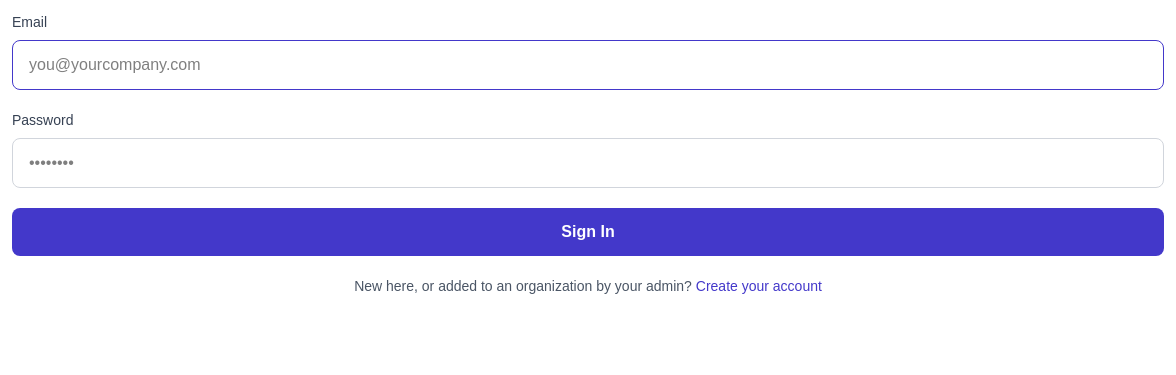
it: LoginForm › shows the server's reason and stays put when the password is wrong
Step 1. Type "amara@acme.io" into the field labelled "Email" → (588, 65), box x1=12 y1=40 x2=1164 y2=90
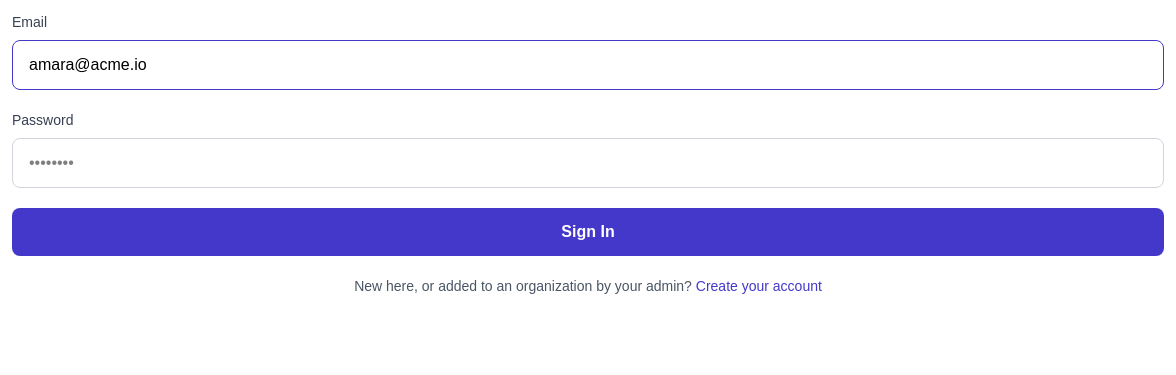
Step 2. Type "guessing" into the password field labelled "Password" → (588, 163), box x1=12 y1=138 x2=1164 y2=188
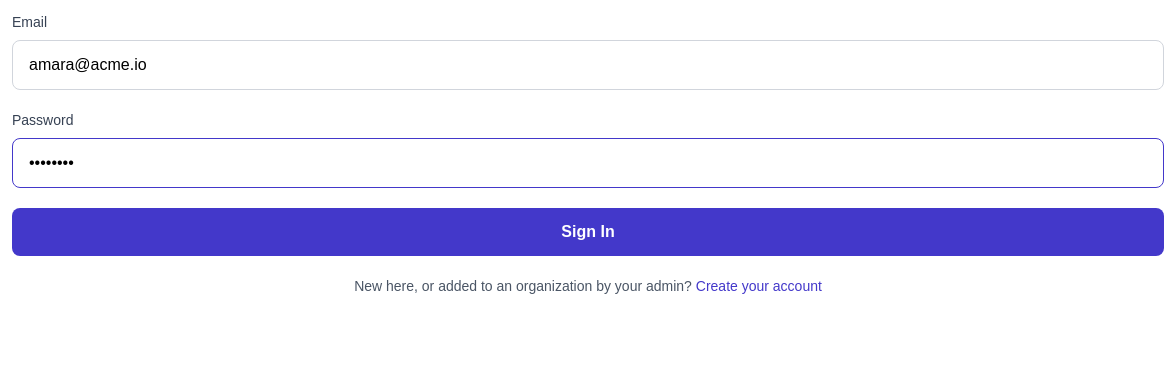
Step 3. Click the button "Sign In" → click(588, 232), box x1=12 y1=208 x2=1164 y2=256
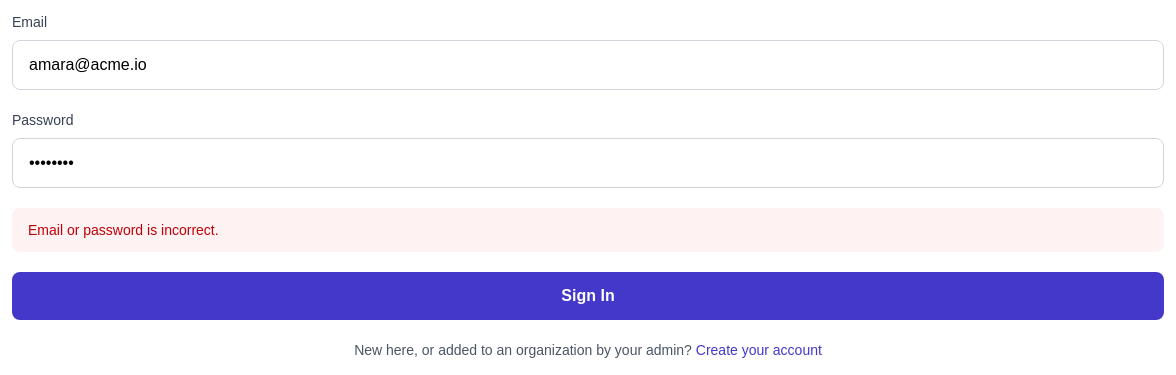
Expected: the message reads "Email or password is incorrect.", x1=28 y1=222 x2=219 y2=238
